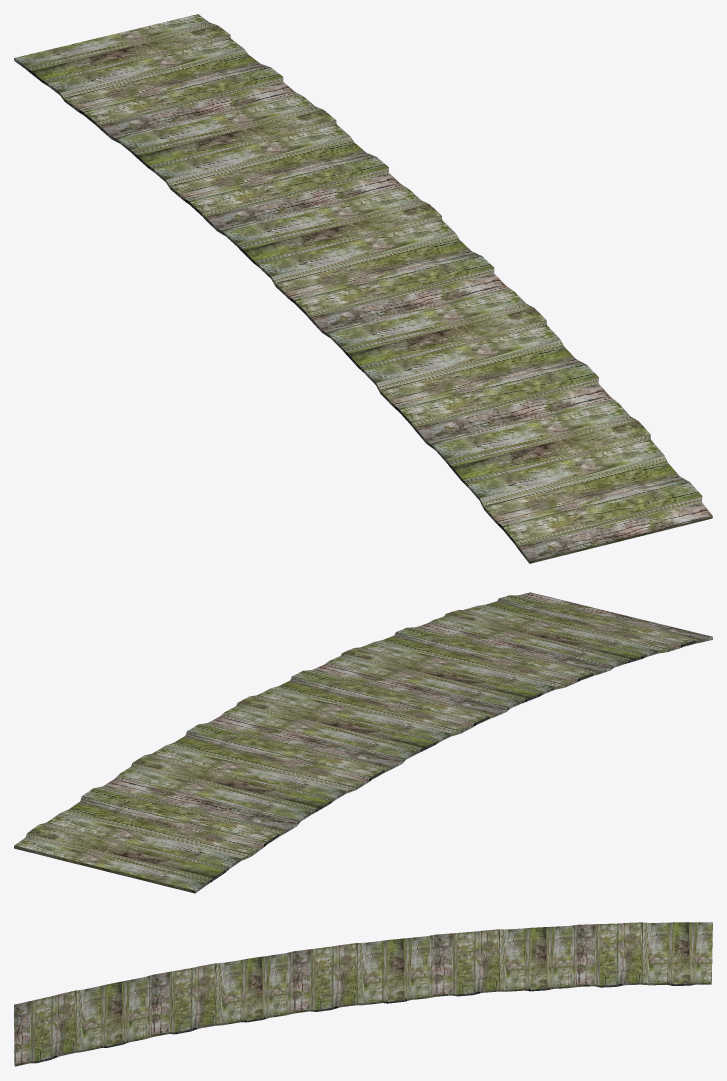
File: RAMP-003.fbx
3 views of the same model, one above another, from view 1: azimuth 30°, elevation 25°; view 2: azimuth 150°, elevation 25°; view 3: azimuth 270°, elevation 25° (orthographic). The views are drawn at different scales.
Parts seen in each view (by area): view 1: ramp_003; view 2: ramp_003; view 3: ramp_003.
Part boxes in pixels (bbox=[...]): ramp_003: bbox=[14, 14, 712, 563]; ramp_003: bbox=[14, 592, 712, 893]; ramp_003: bbox=[14, 922, 712, 1066].
Size of the model in its own units: 206 by 131 by 977.
